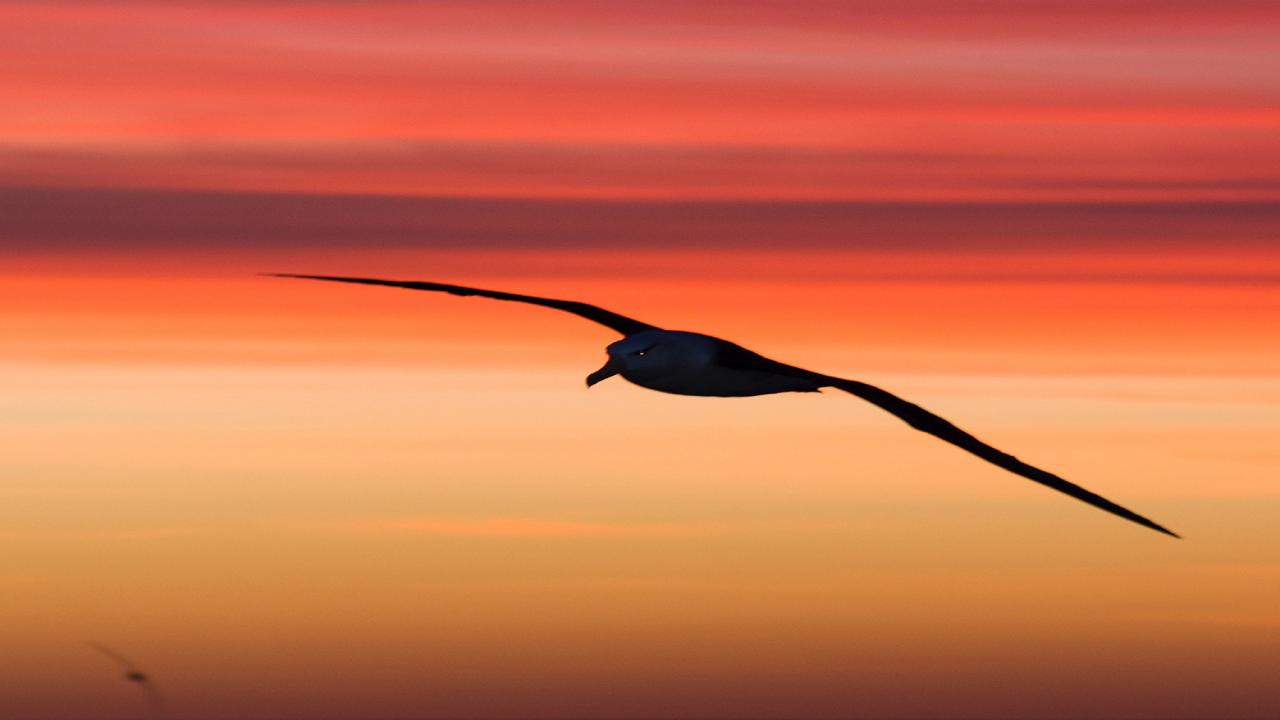Bird: (228, 262, 1192, 550)
